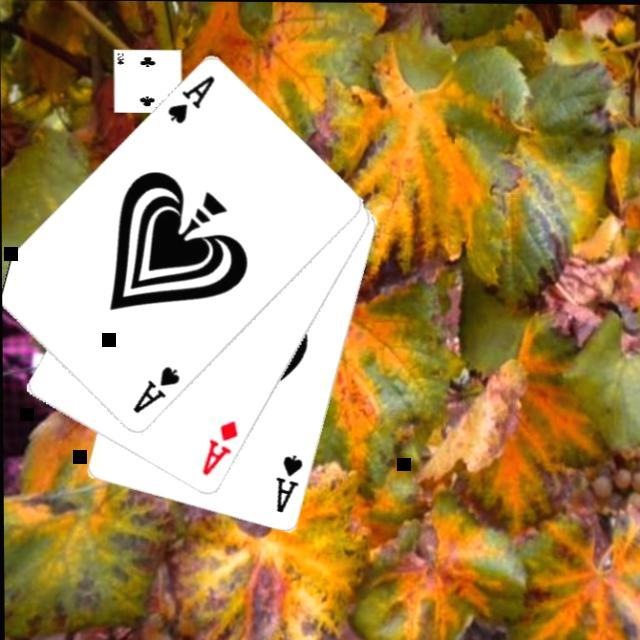AD: (197, 416, 240, 478)
AS: (163, 71, 217, 127), (128, 362, 182, 417), (271, 450, 305, 516)
